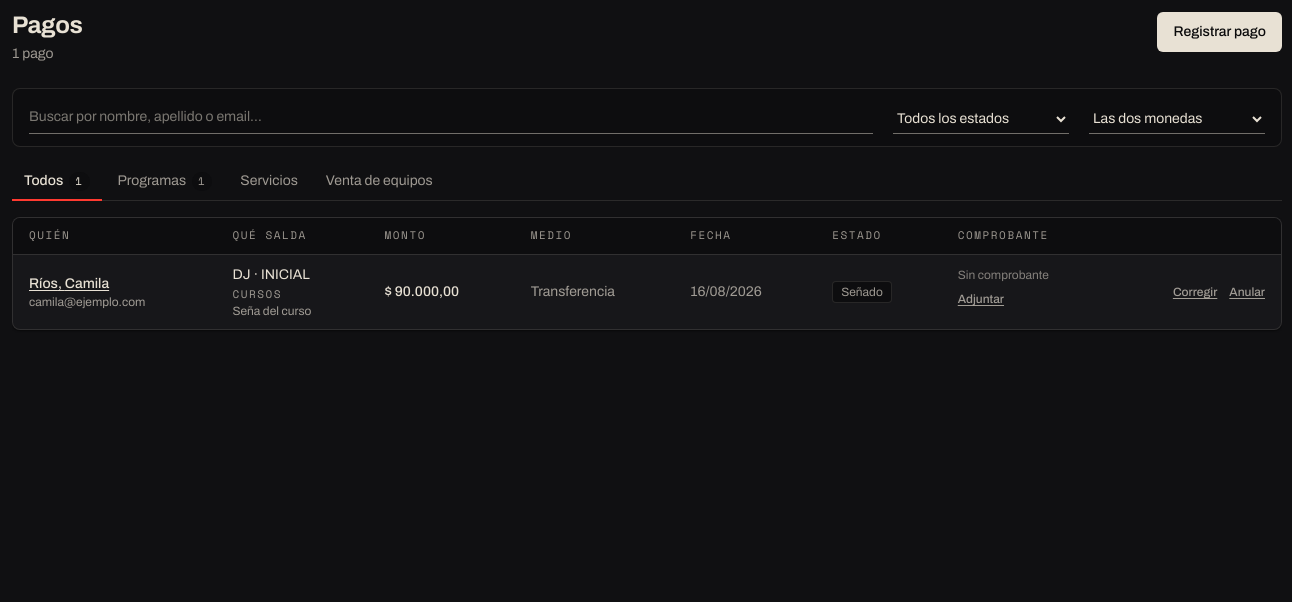
Test case: las dos operaciones de reversa › avisa que el pago no se borra
What coordinates should you click on to do the following:
click the button "Anular"
I would click on:
 (1247, 292)
Its box is [1229,284,1265,300].
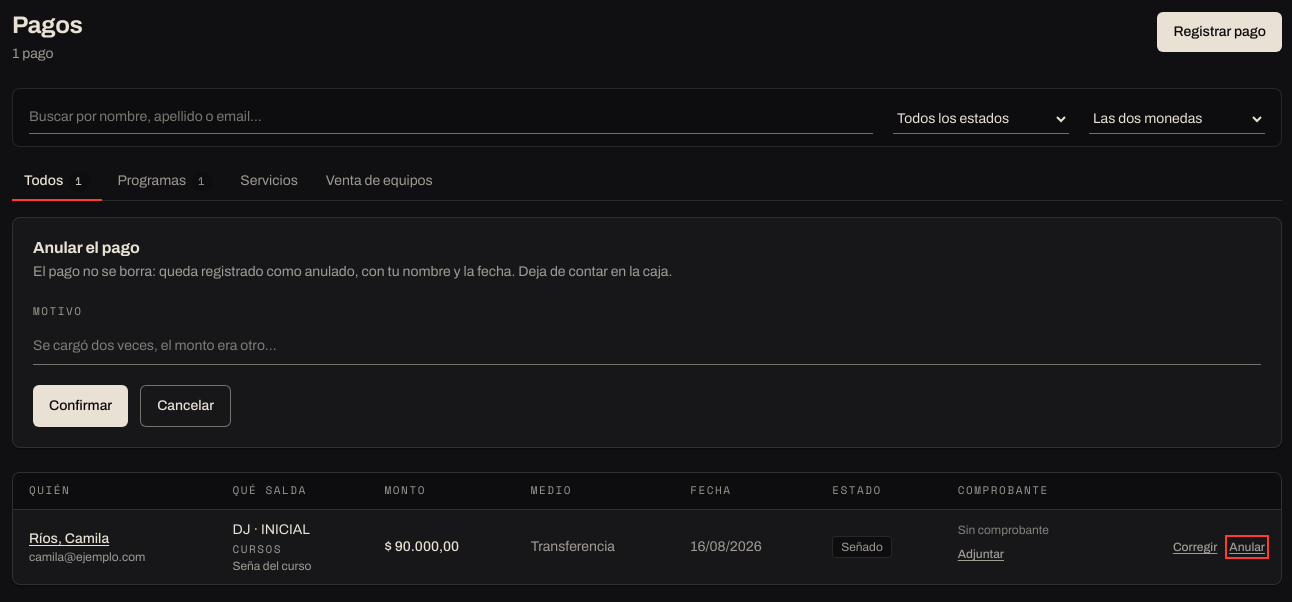
Now the text "no se borra" is shown, box [33,264,672,279]
